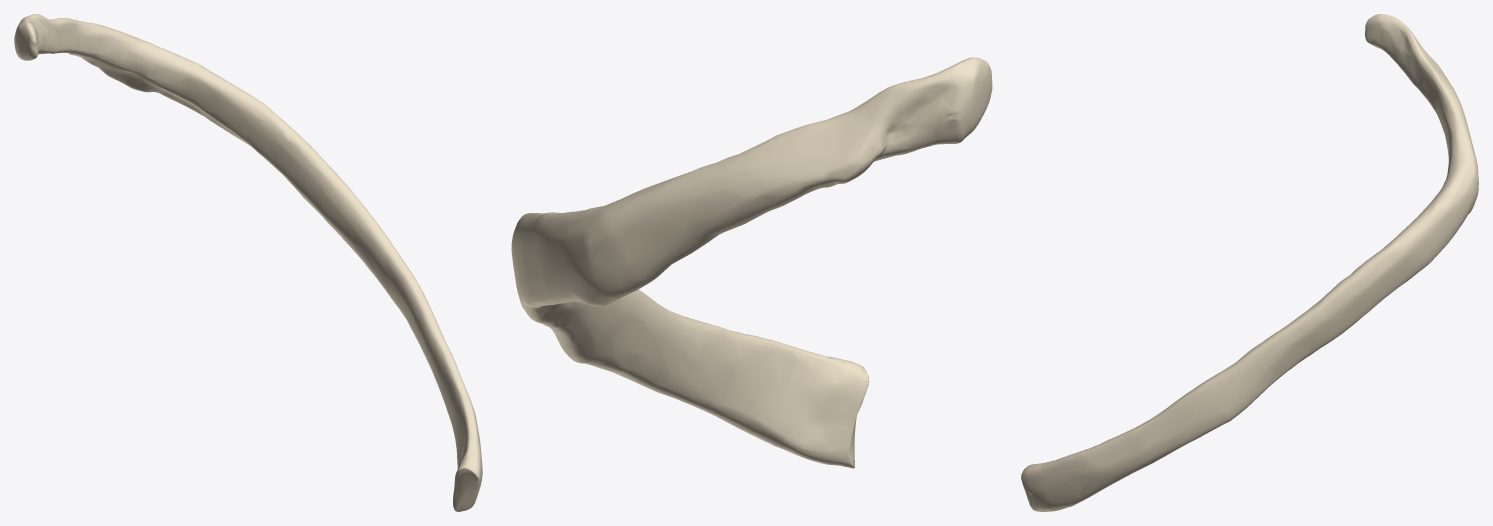
File: eighth-rib-l.glb
3 views of the same model, side by side, from view 1: azimuth 30°, elevation 25°; view 2: azimuth 150°, elevation 25°; view 3: azimuth 270°, elevation 25° (orthographic). The views are drawn at different scales.
Parts seen in each view (by area): view 1: Eighth rib.l; view 2: Eighth rib.l; view 3: Eighth rib.l.
Boxes of the visible parts, box(x1,y1,x2,y2) form: Eighth rib.l: box(14, 14, 482, 511); Eighth rib.l: box(511, 57, 992, 468); Eighth rib.l: box(1021, 14, 1478, 511).
Size of the model in its own units: 0.1179 by 0.1515 by 0.1634.
